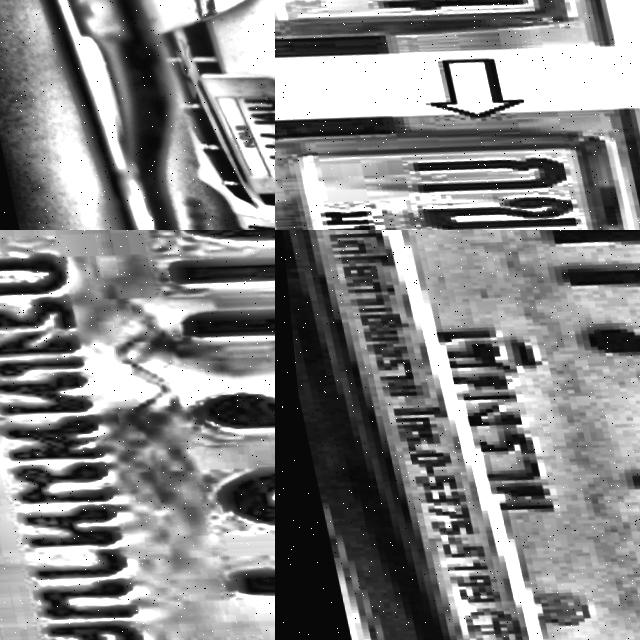license-plate: (275, 230, 640, 640), (0, 230, 275, 640), (275, 89, 640, 230), (275, 0, 590, 67), (191, 56, 275, 201)
